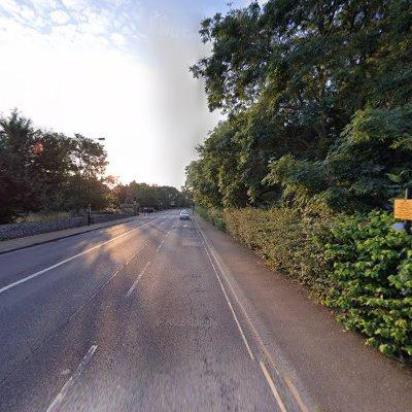moving-car: (180, 209, 190, 221)
